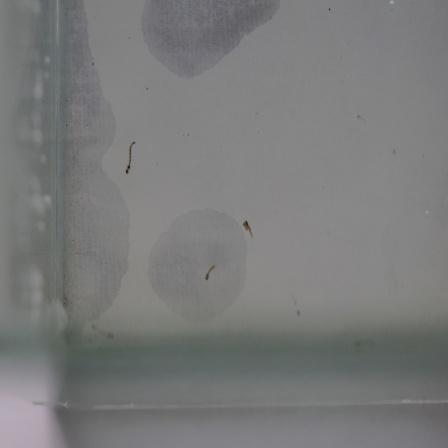Jentik-Nyamuk: (120, 139, 145, 175), (240, 216, 259, 243), (202, 261, 219, 286)
